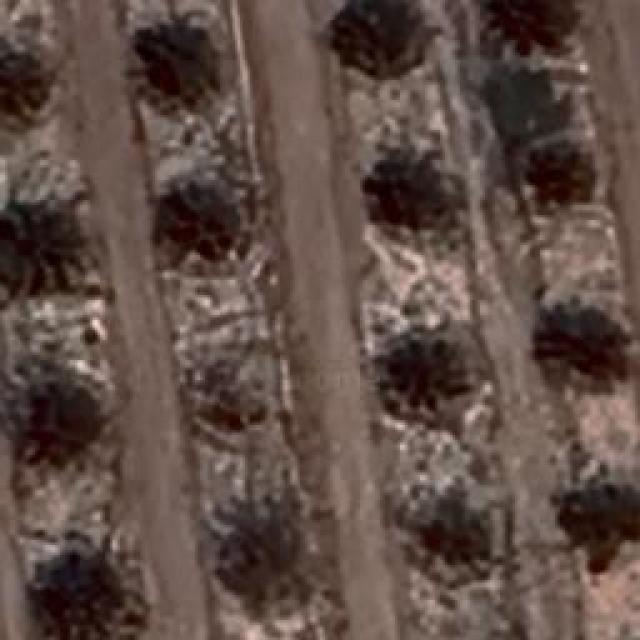PalmTree: (97, 80, 225, 399), (131, 21, 231, 114), (80, 81, 97, 591), (555, 465, 640, 565), (0, 192, 88, 286), (534, 304, 632, 384), (328, 0, 432, 75), (416, 490, 504, 578), (18, 370, 104, 460), (386, 332, 489, 406), (219, 510, 299, 602), (154, 166, 248, 244), (366, 150, 446, 235), (486, 0, 582, 65), (514, 142, 608, 206), (0, 31, 40, 119)
